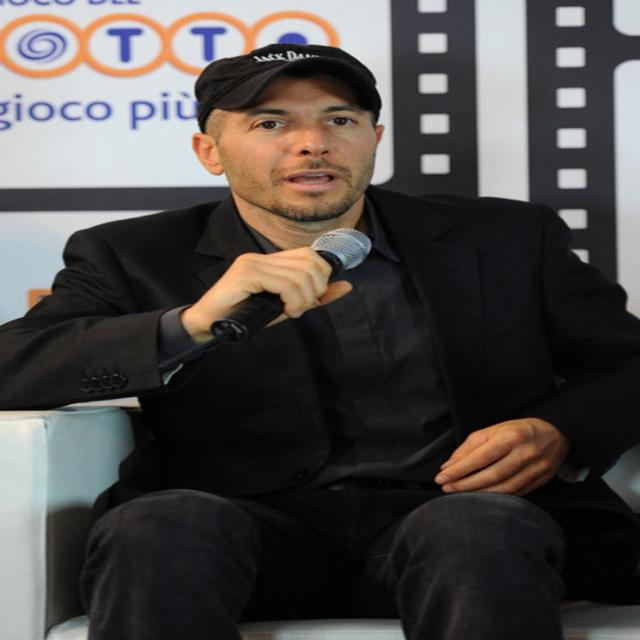Face: (177, 68, 386, 225)
